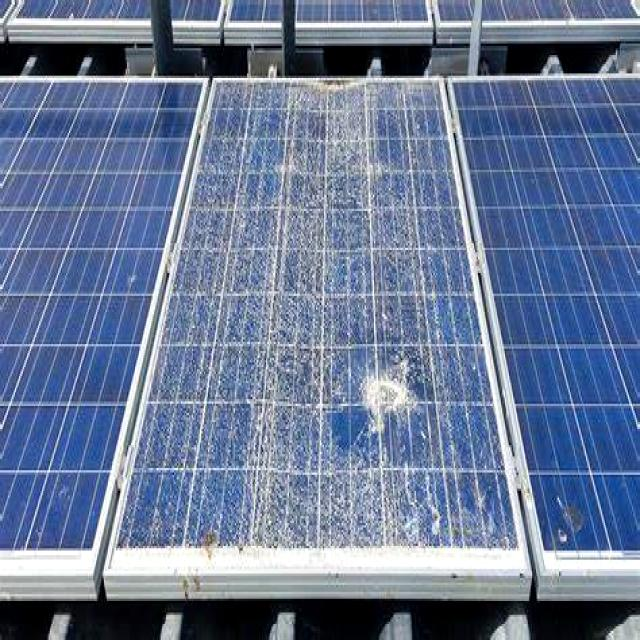hotspot: (342, 347, 435, 443)
